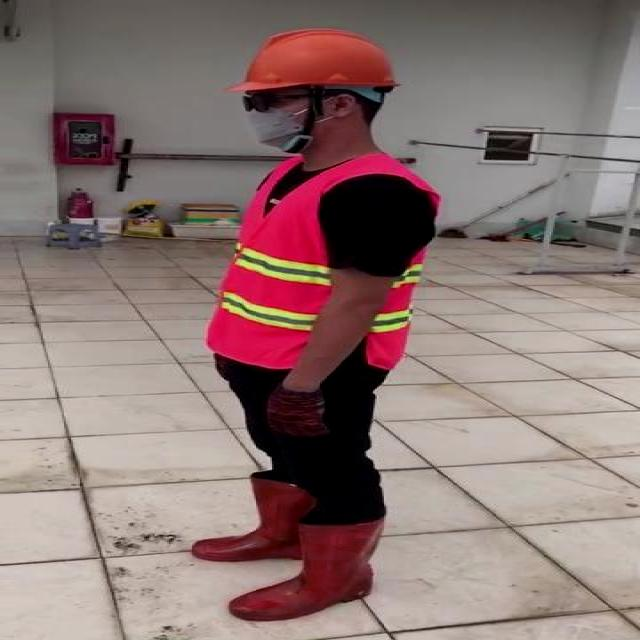boots: (228, 515, 384, 623), (192, 475, 302, 562)
face_mask: (235, 86, 322, 147)
glasses: (231, 87, 297, 116)
hand_glove: (262, 386, 334, 436)
head_helmet: (243, 26, 408, 92)
person: (181, 24, 464, 627)
vest: (203, 158, 448, 368)
